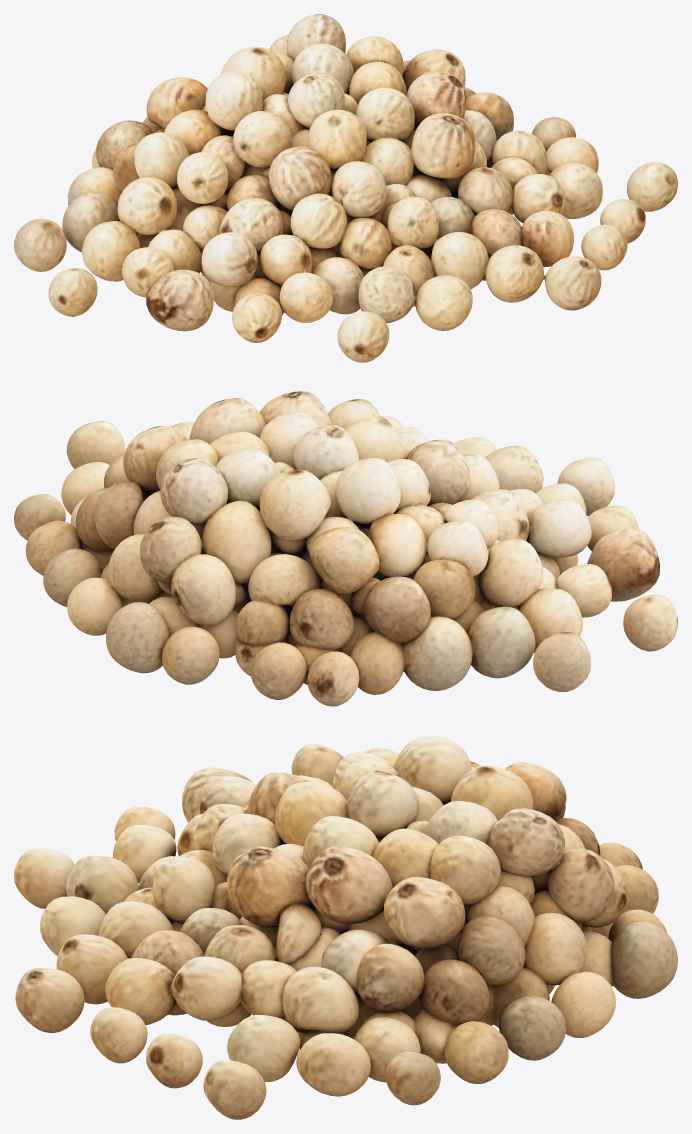
Rendered from lod_basic_shaded.fbx.
The picture shows the model from 3 angles, top to bottom: view 1: azimuth 30°, elevation 25°; view 2: azimuth 150°, elevation 25°; view 3: azimuth 270°, elevation 25°; orthographic projection. The views are drawn at different scales.
Visible parts, largest first — view 1: model_LOD0; view 2: model_LOD0; view 3: model_LOD0.
Boxes of the visible parts, <box> form: model_LOD0: <box>14,14,677,362</box>; model_LOD0: <box>14,391,677,706</box>; model_LOD0: <box>14,735,677,1119</box>.
Size of what is drawn, in the model's own units: 190 by 50.84 by 157.
